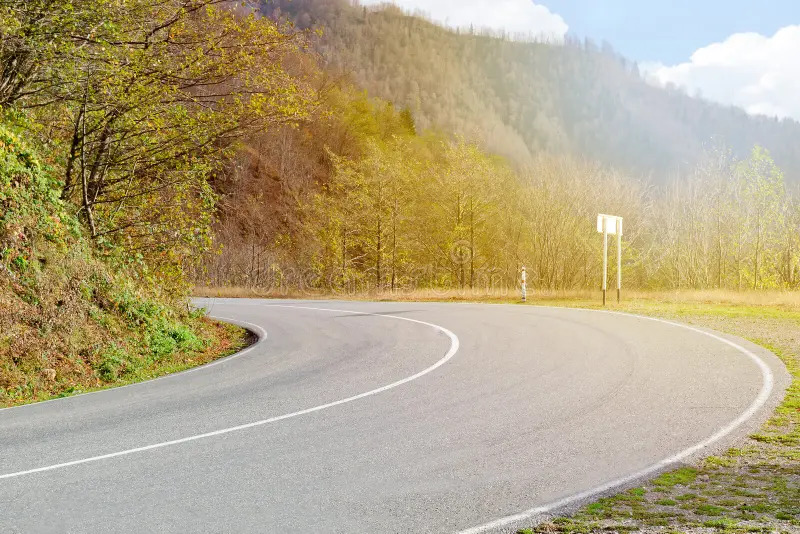leftTrun: (242, 283, 534, 446)
